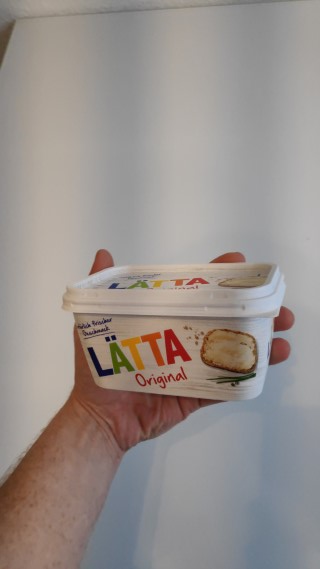laetta: (59, 258, 288, 401)
